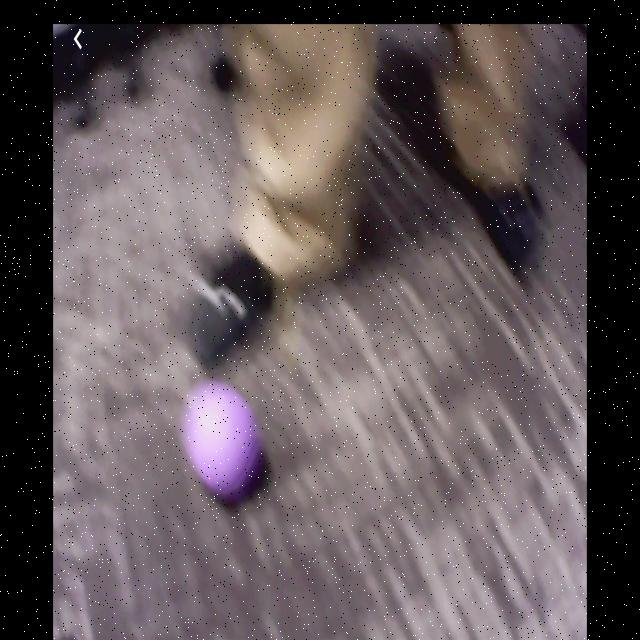ball: (187, 385, 258, 498)
